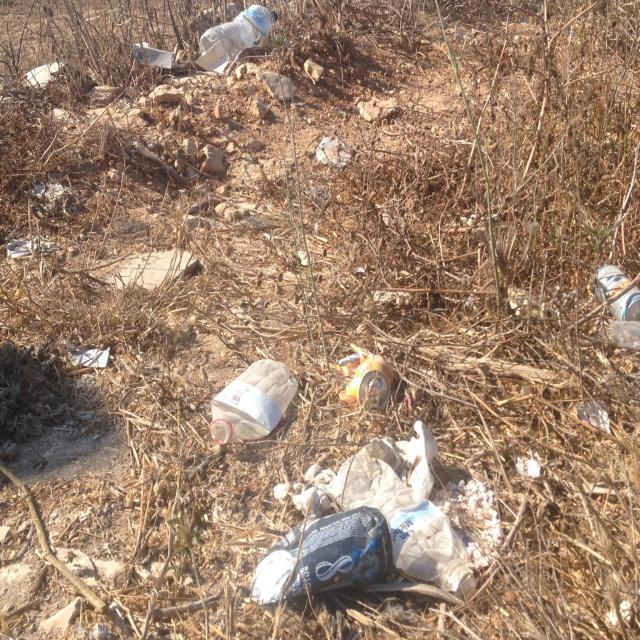Bottle: (329, 451, 481, 601), (205, 357, 302, 449), (199, 4, 278, 60)
Can: (249, 505, 394, 604), (317, 339, 396, 417), (591, 261, 639, 323)
Carton: (131, 39, 229, 76)
Other litter: (433, 481, 503, 573), (17, 63, 69, 93), (315, 134, 353, 169), (4, 233, 39, 263)
Other plastic: (367, 419, 437, 494), (271, 465, 333, 518), (574, 396, 613, 435), (69, 343, 112, 372), (604, 321, 640, 351), (515, 455, 544, 481)
